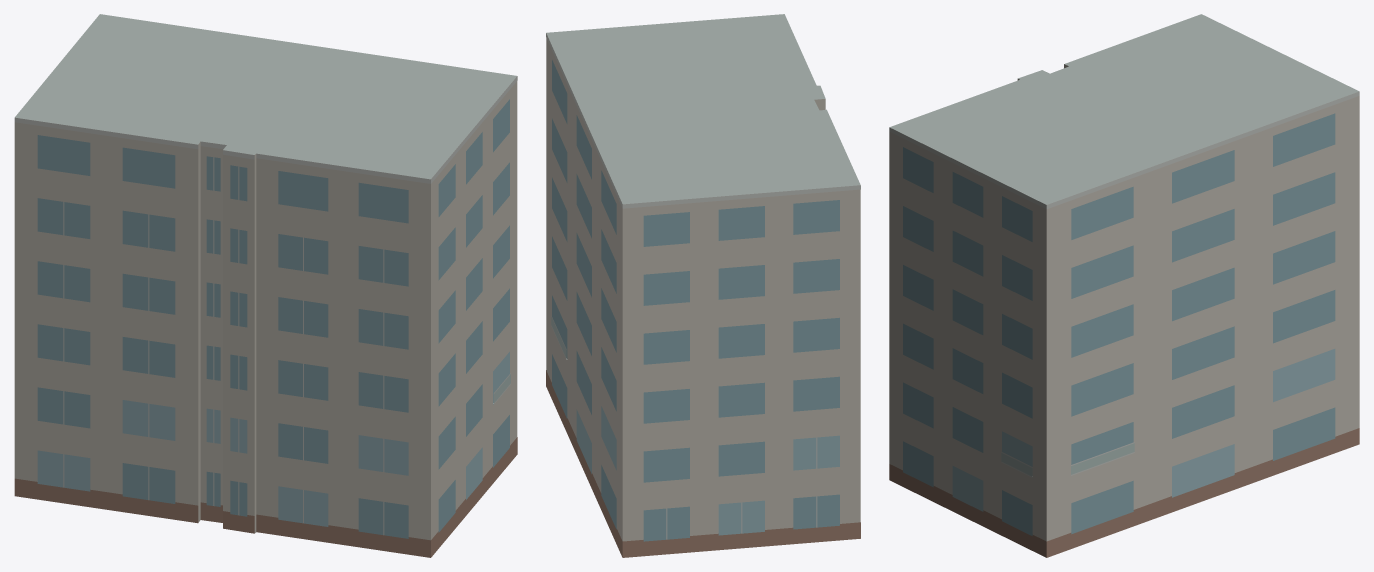
The model's file is survey-upis-32703749.glb.
The picture shows the model from 3 angles, left to right: view 1: azimuth 30°, elevation 25°; view 2: azimuth 150°, elevation 25°; view 3: azimuth 270°, elevation 25°; orthographic projection. The views are drawn at different scales.
Visible parts, largest first — view 1: survey-upis-32703749.tmp; view 2: survey-upis-32703749.tmp; view 3: survey-upis-32703749.tmp.
Boxes of the visible parts, bbox=[...] form: survey-upis-32703749.tmp: bbox=[14, 14, 517, 557]; survey-upis-32703749.tmp: bbox=[546, 14, 860, 557]; survey-upis-32703749.tmp: bbox=[889, 14, 1359, 557].
Bounding box in the file's own units: 23.23 × 20 × 24.16.
